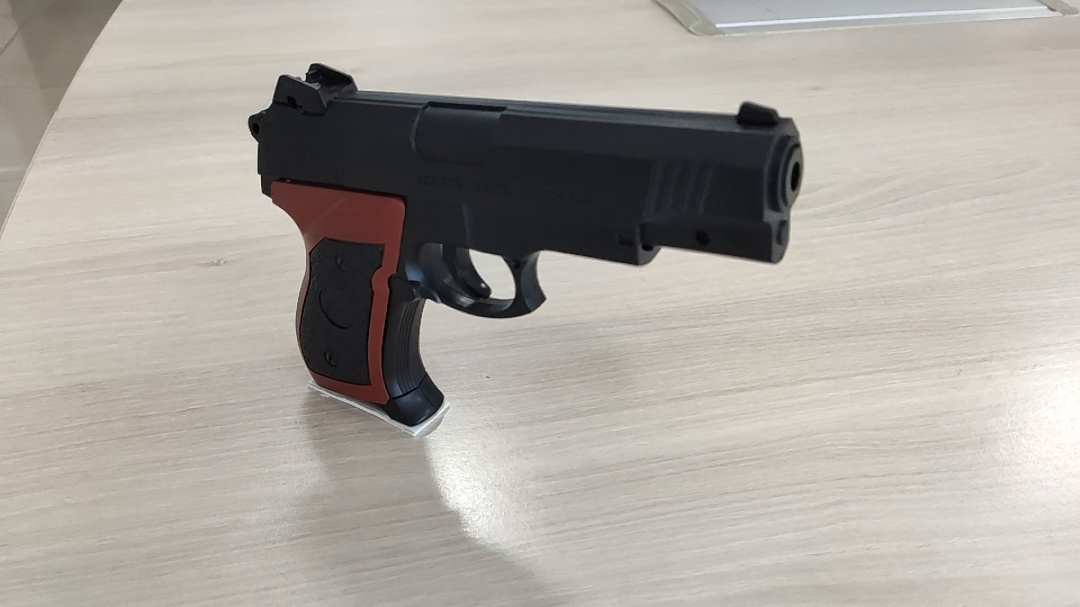gun: (246, 61, 808, 429)
